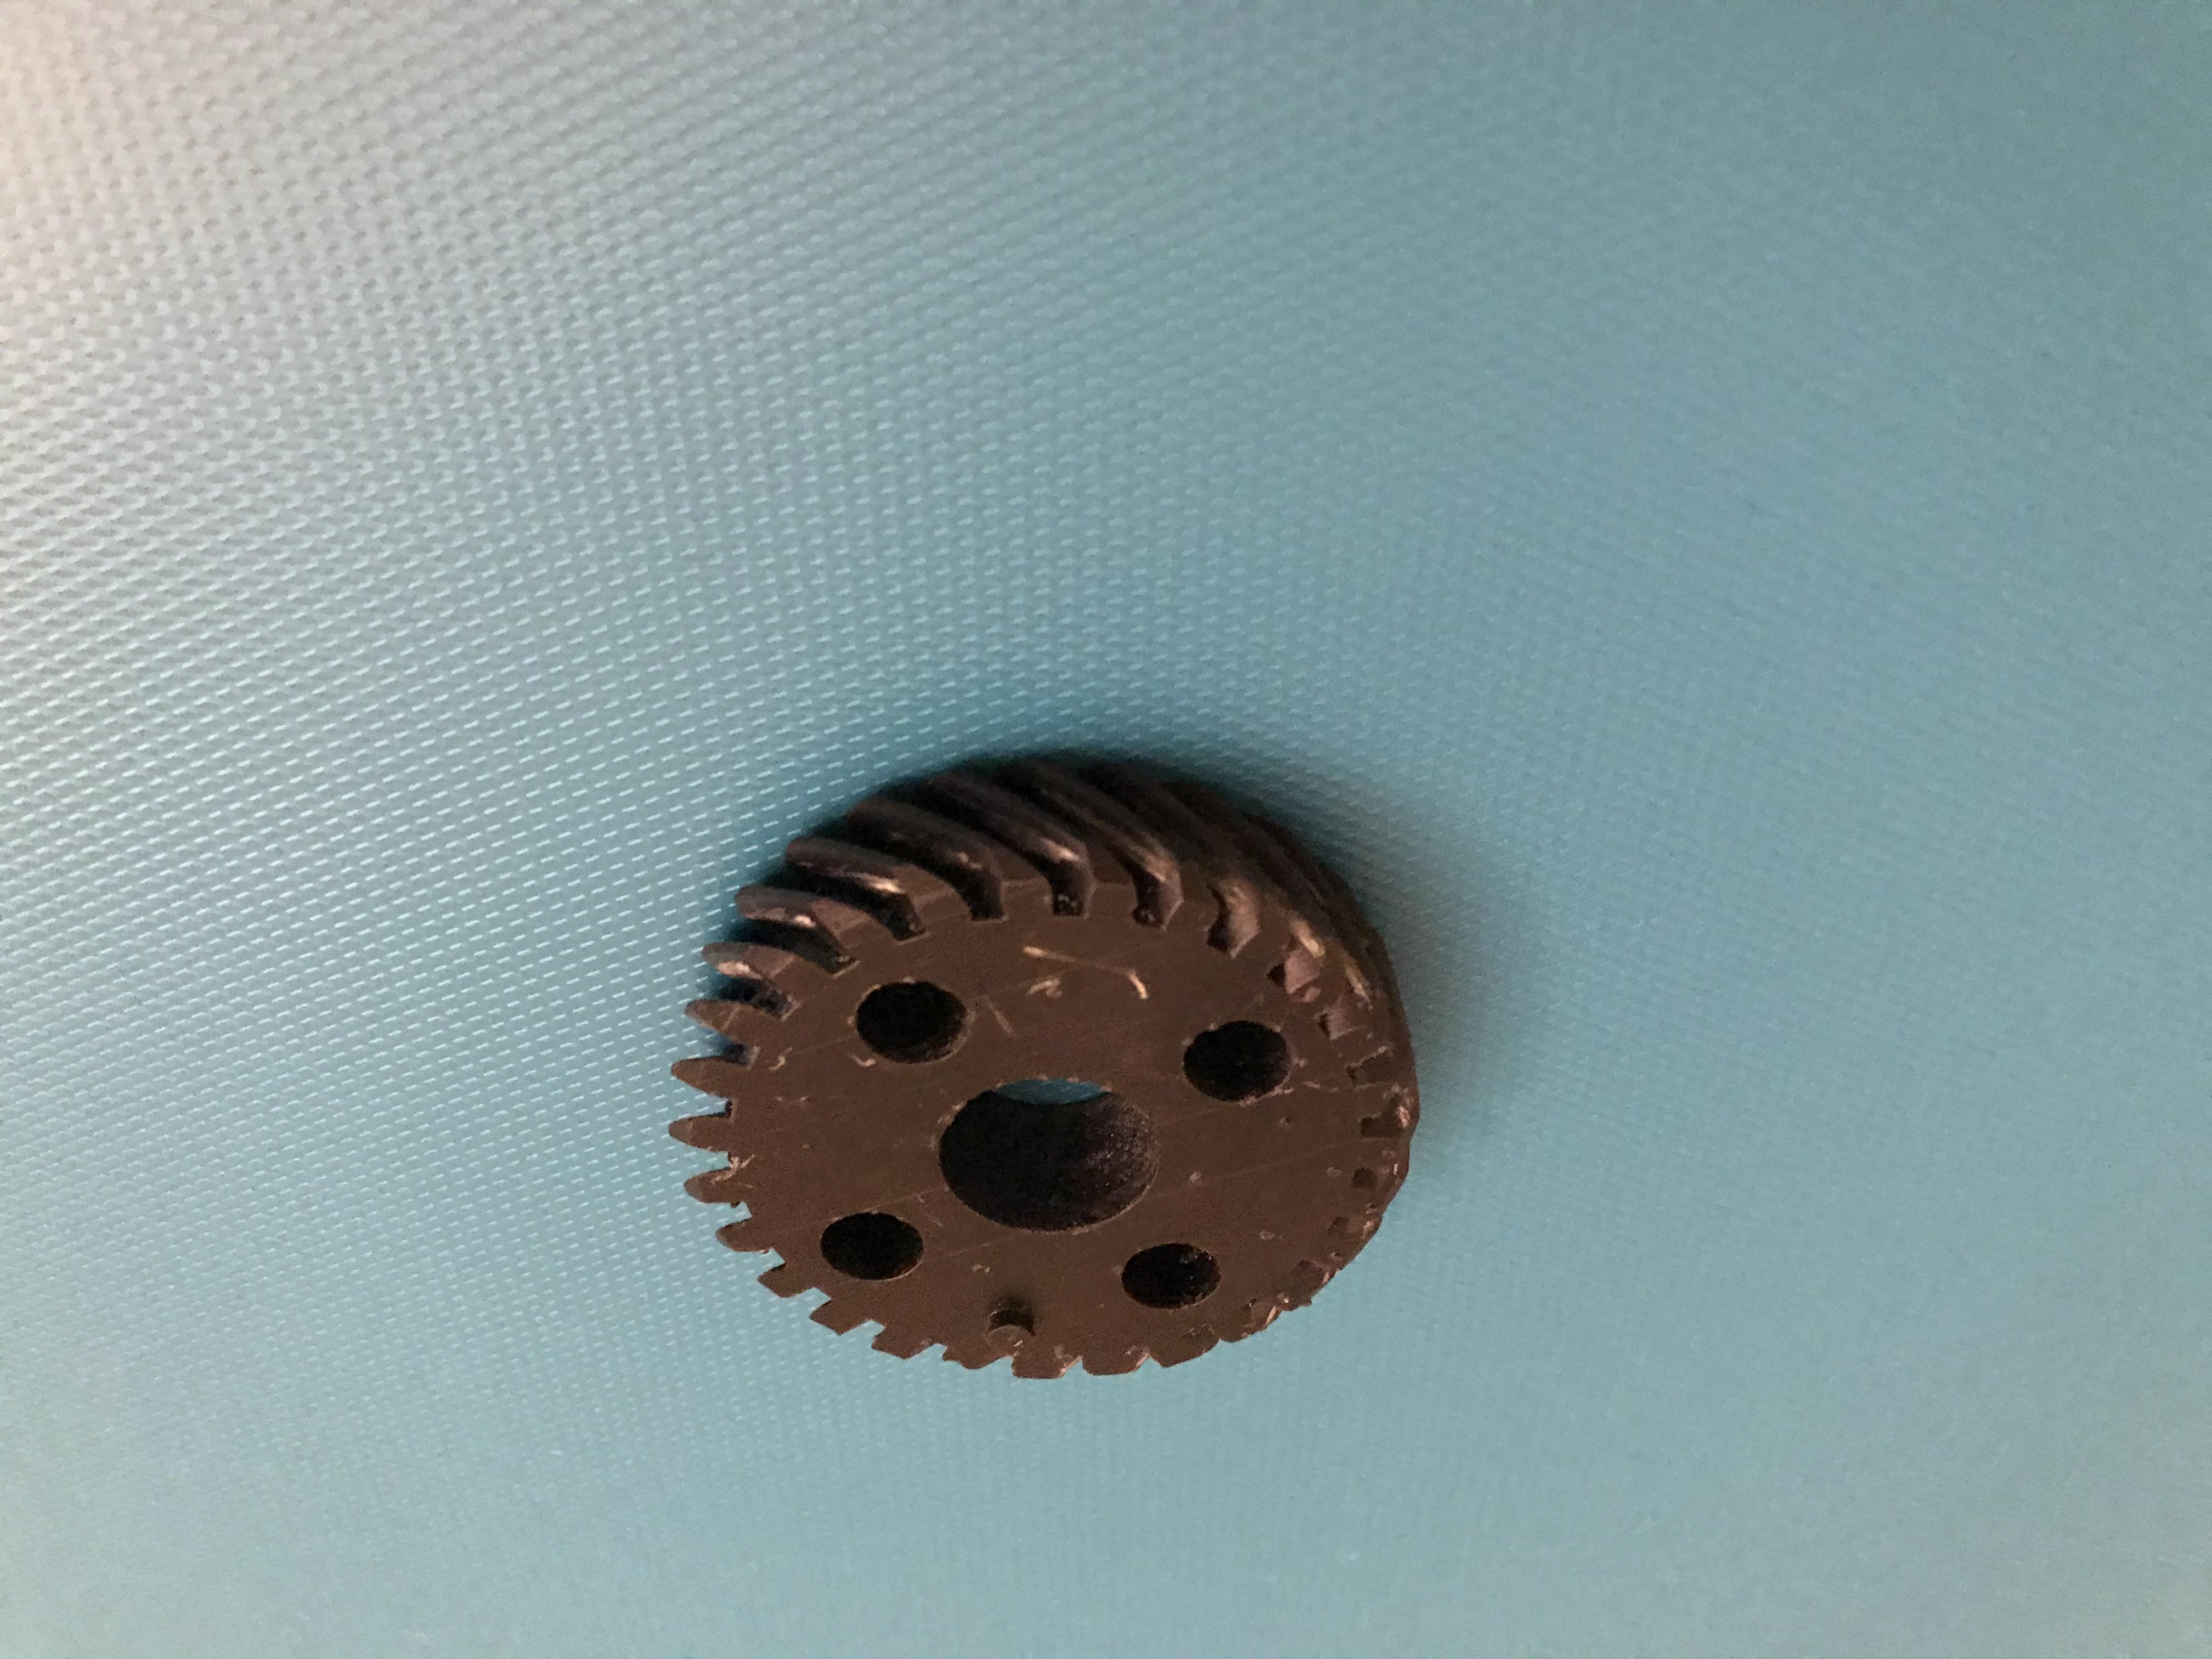Wheel: (671, 730, 1423, 1398)
